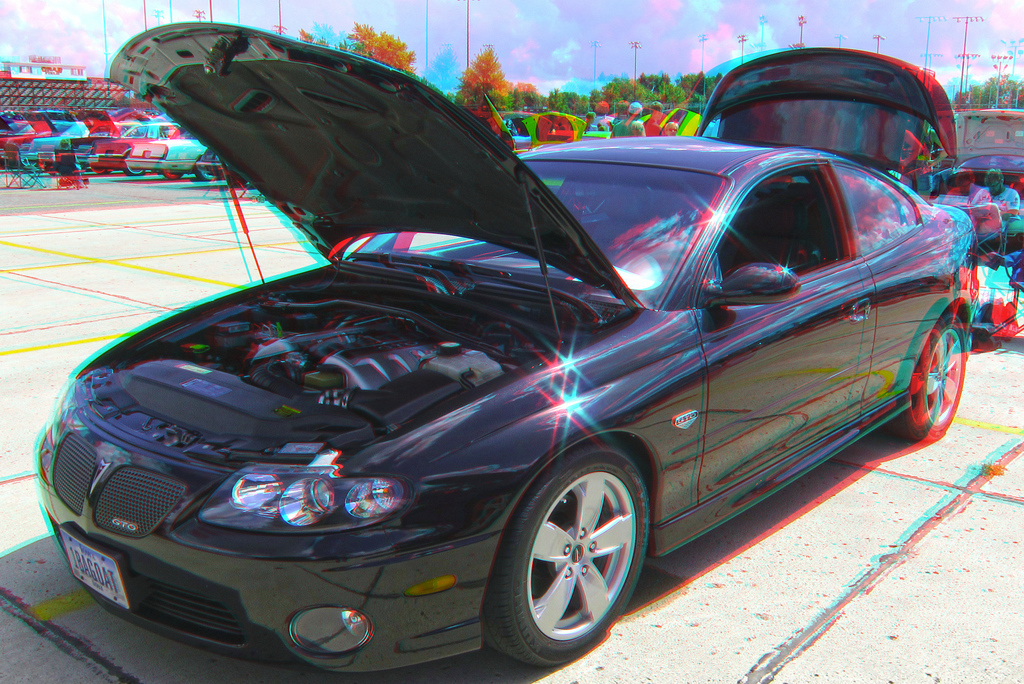Car: (26, 20, 976, 672), (0, 108, 242, 179)
